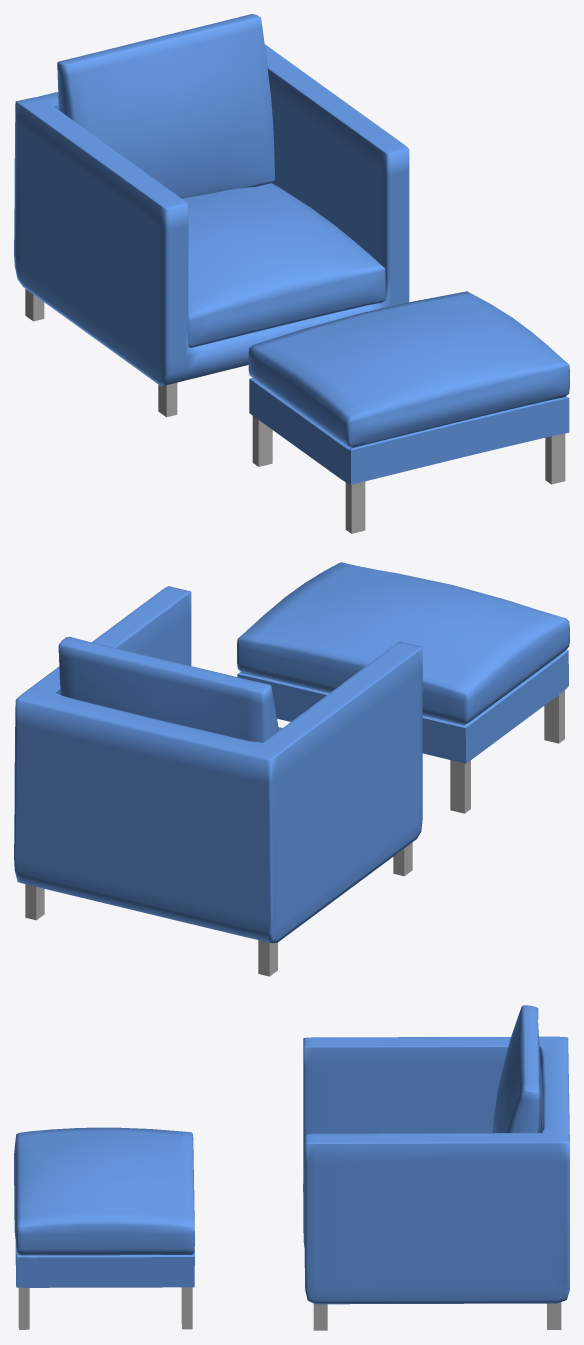
The model's file is footarm_sofa.fbx.
The picture shows the model from 3 angles, top to bottom: view 1: azimuth 30°, elevation 25°; view 2: azimuth 150°, elevation 25°; view 3: azimuth 270°, elevation 25°; orthographic projection. The views are drawn at different scales.
Visible parts, largest first — view 1: IKEA_Karlstad_Footstool_and_Armchair_3D:Object02, IKEA_Karlstad_Footstool_and_Armchair_3D:Object01; view 2: IKEA_Karlstad_Footstool_and_Armchair_3D:Object02, IKEA_Karlstad_Footstool_and_Armchair_3D:Object01; view 3: IKEA_Karlstad_Footstool_and_Armchair_3D:Object02, IKEA_Karlstad_Footstool_and_Armchair_3D:Object01.
Part boxes in pixels (x1,y1,x2,y2): IKEA_Karlstad_Footstool_and_Armchair_3D:Object02: (14,14,409,417); IKEA_Karlstad_Footstool_and_Armchair_3D:Object01: (248,291,569,533); IKEA_Karlstad_Footstool_and_Armchair_3D:Object02: (14,586,422,976); IKEA_Karlstad_Footstool_and_Armchair_3D:Object01: (237,562,569,813); IKEA_Karlstad_Footstool_and_Armchair_3D:Object02: (303,1005,569,1330); IKEA_Karlstad_Footstool_and_Armchair_3D:Object01: (14,1127,194,1329).
Size of the model in its own units: 89.34 by 89.77 by 195.
